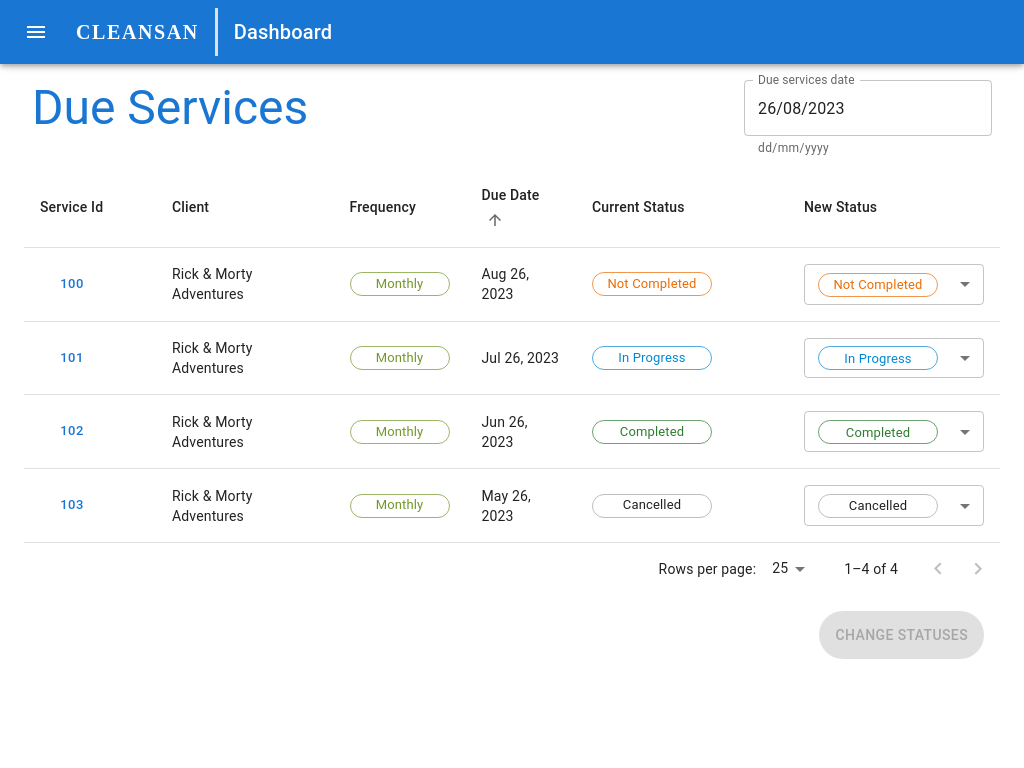
Test: <DashboardPage /> › the change statuses button should be enabled when status changes
The width and height of the screenshot is (1024, 768).
Replace the text in the field showing "NOT_COMPLETED" with "IN_PROGRESS" at (894, 284), box [804, 264, 984, 305]
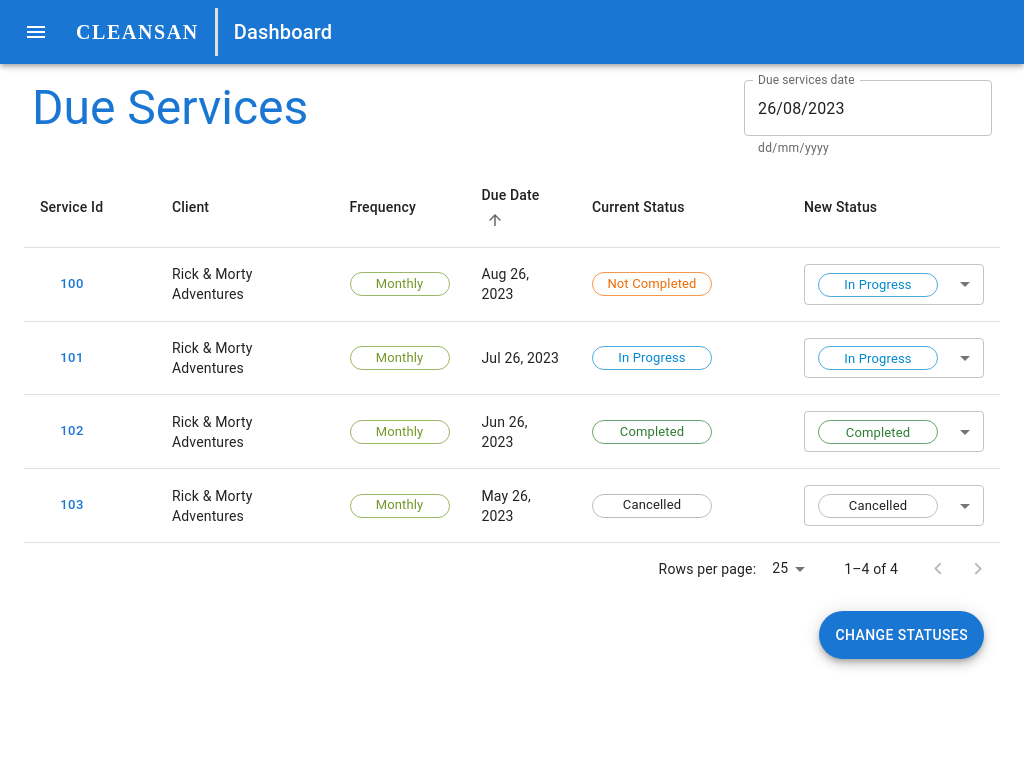
Now the button "Change Statuses" is enabled, box [820, 611, 984, 659]
